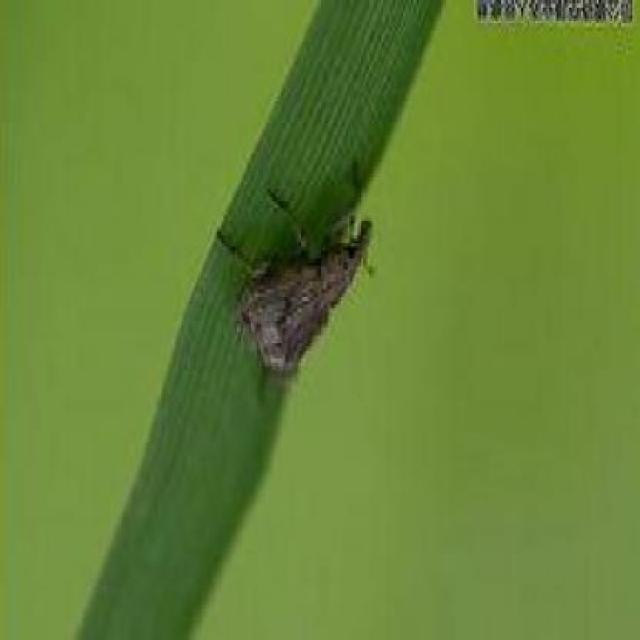rice-bug: (232, 171, 377, 384)
